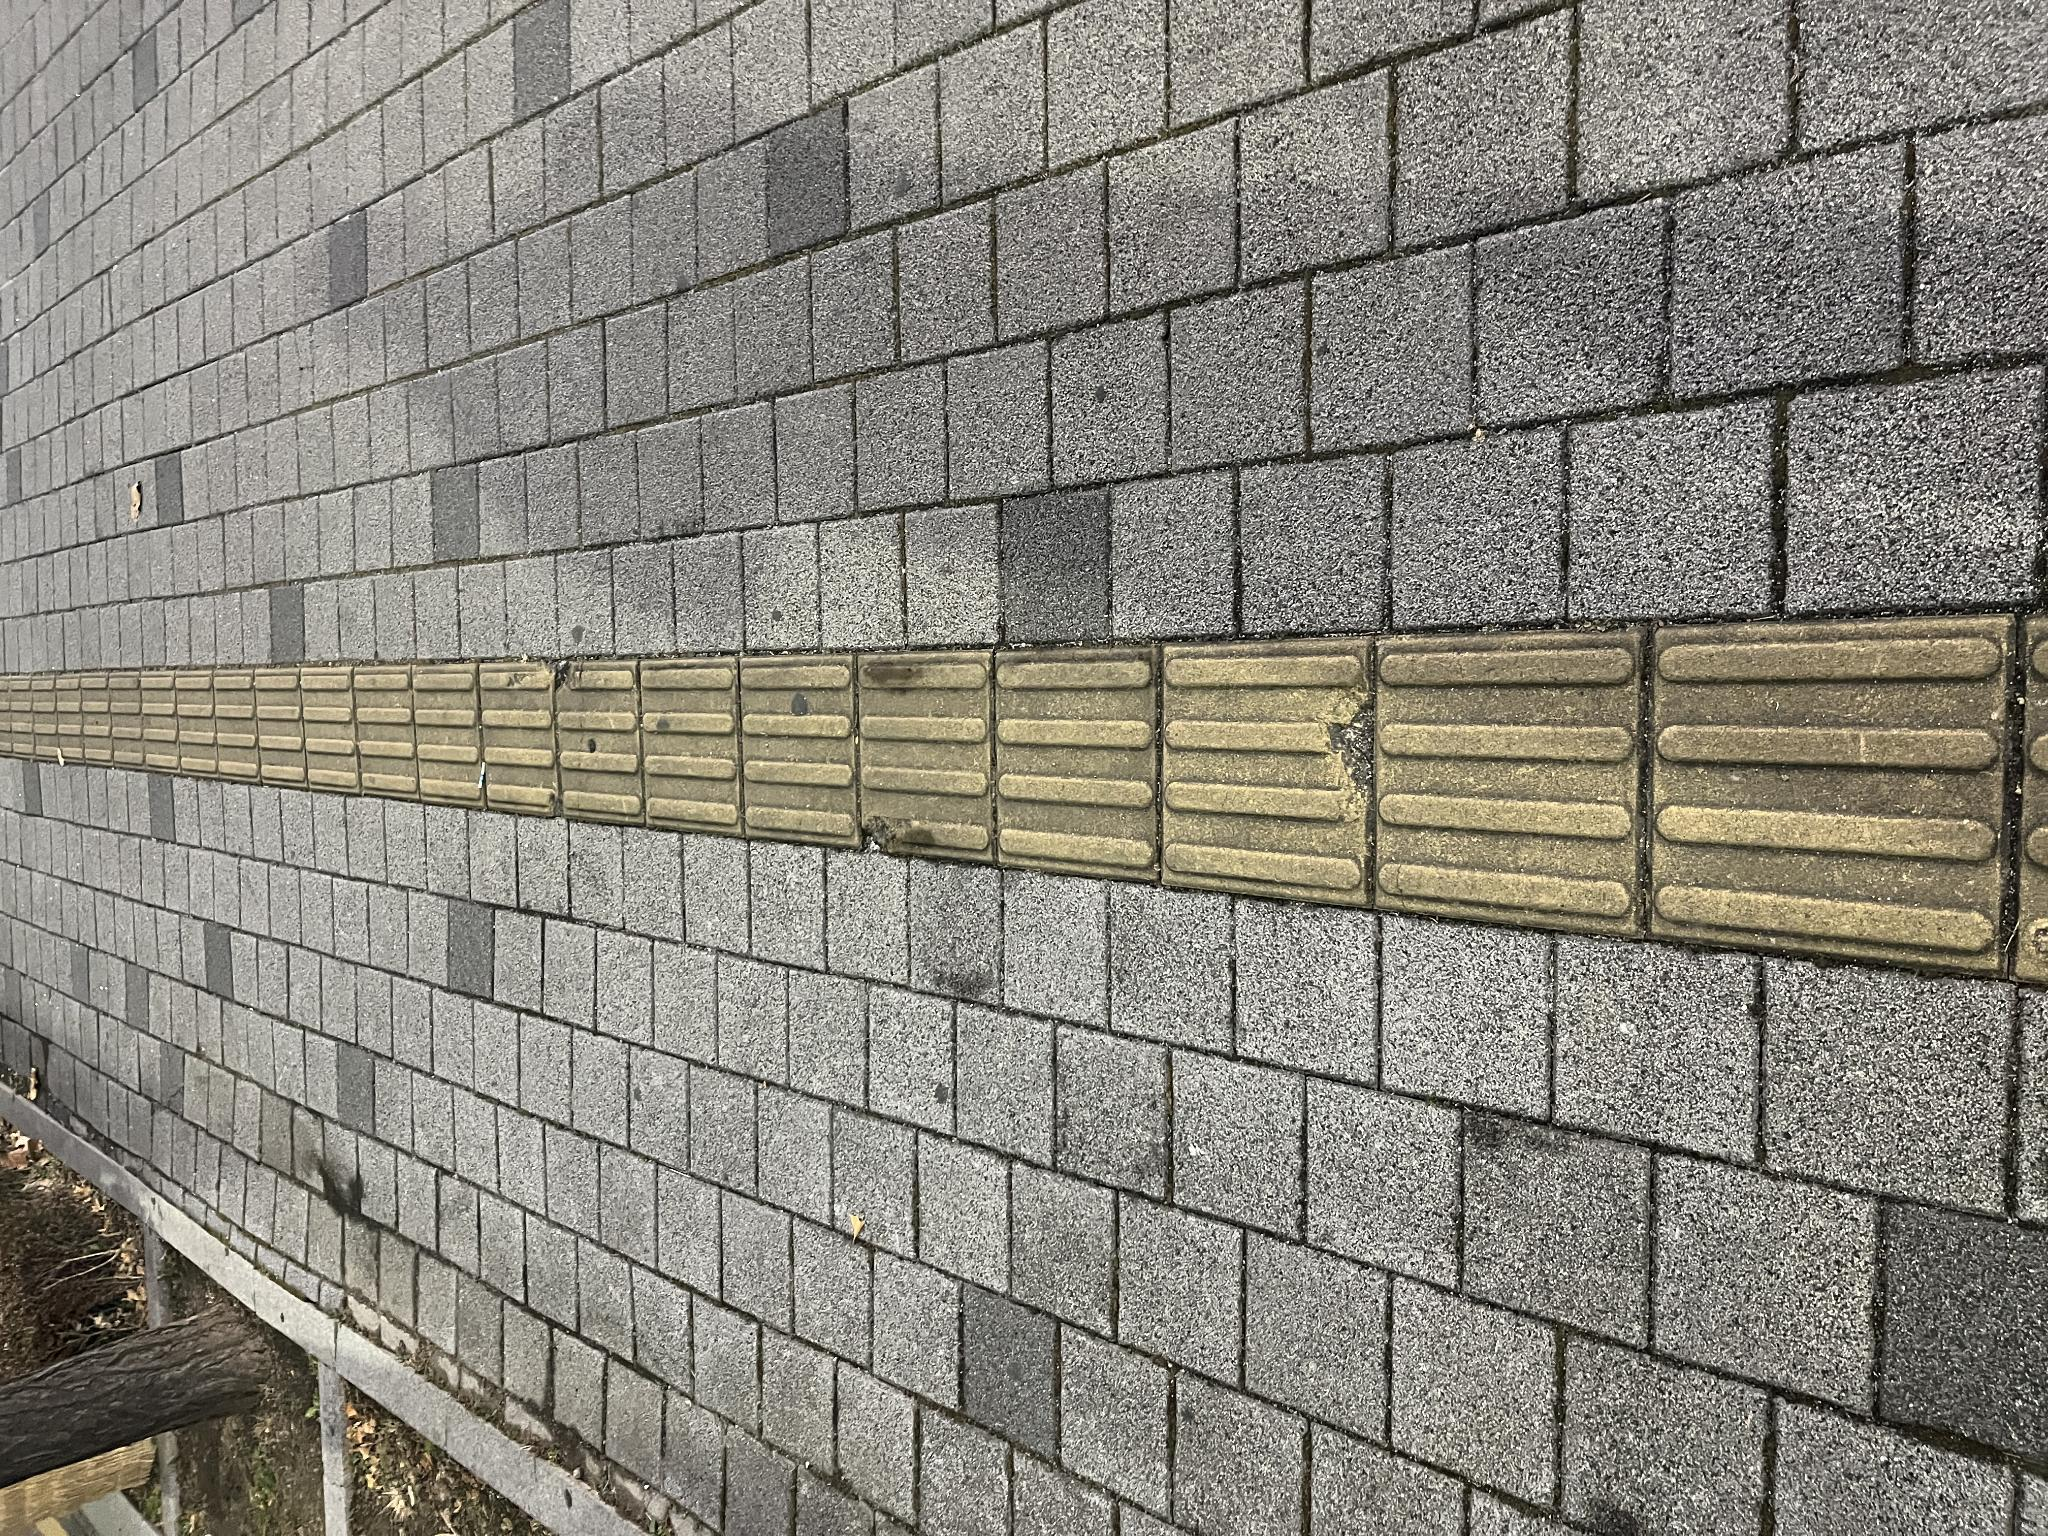Straight block broken: (632, 1162, 898, 1370), (676, 855, 887, 992), (711, 555, 877, 644), (721, 479, 874, 560)
Straight block normal: (614, 1378, 900, 1536), (656, 994, 892, 1155), (690, 739, 880, 858), (701, 639, 877, 742)
